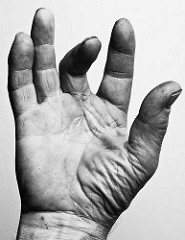palm: (28, 99, 128, 218)
